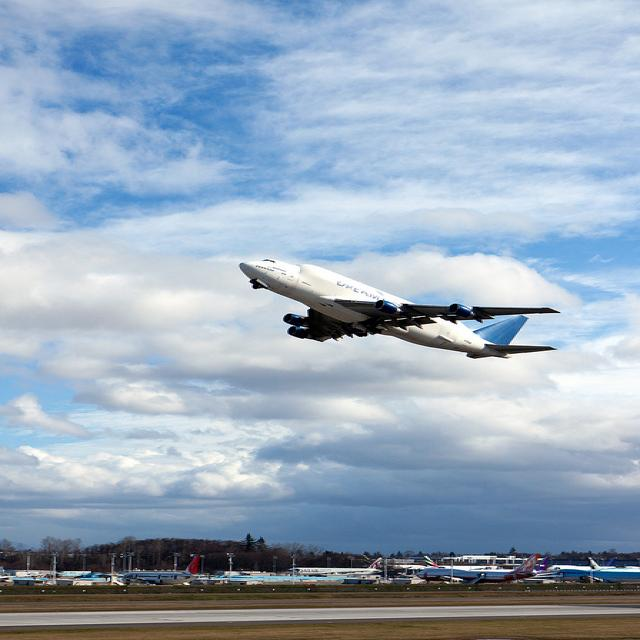airplane: (235, 254, 565, 364)
